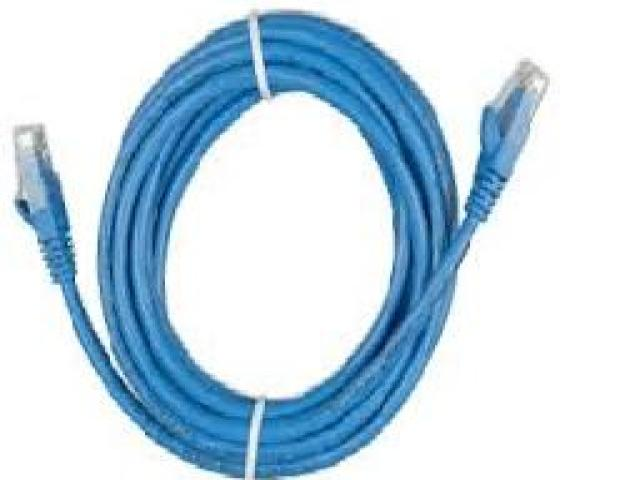wire: (8, 6, 548, 478)
